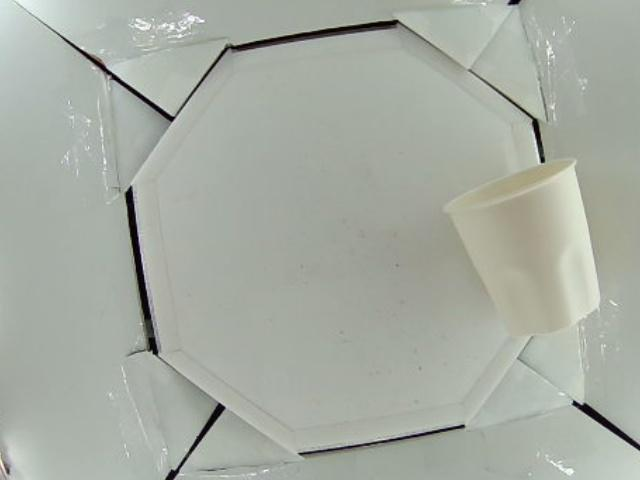Cup: (444, 159, 605, 335)
